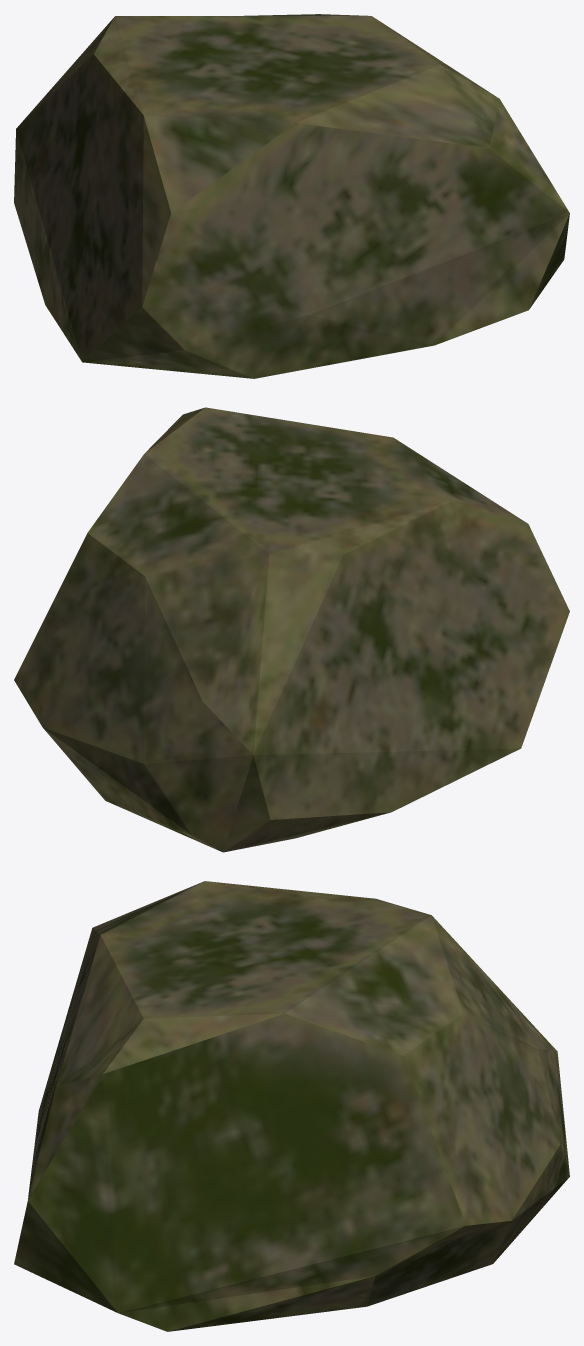
File: mossy rocks9.fbx
3 renders of one model, top to bottom at view 1: azimuth 30°, elevation 25°; view 2: azimuth 150°, elevation 25°; view 3: azimuth 270°, elevation 25°, orthographic. The views are drawn at different scales.
Parts seen in each view (by area): view 1: Mossy_Rock18_M_Mossy_Rock_0; view 2: Mossy_Rock18_M_Mossy_Rock_0; view 3: Mossy_Rock18_M_Mossy_Rock_0.
Part boxes in pixels (bbox=[...]): Mossy_Rock18_M_Mossy_Rock_0: bbox=[14, 14, 569, 378]; Mossy_Rock18_M_Mossy_Rock_0: bbox=[14, 407, 569, 852]; Mossy_Rock18_M_Mossy_Rock_0: bbox=[14, 881, 569, 1331].
Bounding box in the file's own units: 60.47 × 34.01 × 59.55.
Materials: 1 (1 with a texture image).
